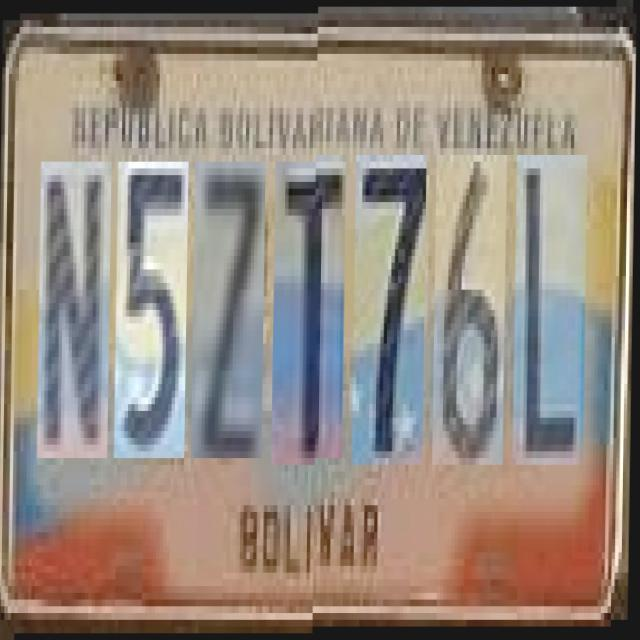5: (116, 154, 190, 452)
6: (433, 155, 508, 465)
7: (353, 155, 427, 465)
L: (514, 155, 588, 465)
N: (38, 154, 112, 452)
T: (273, 155, 347, 458)
Z: (192, 154, 266, 452)
